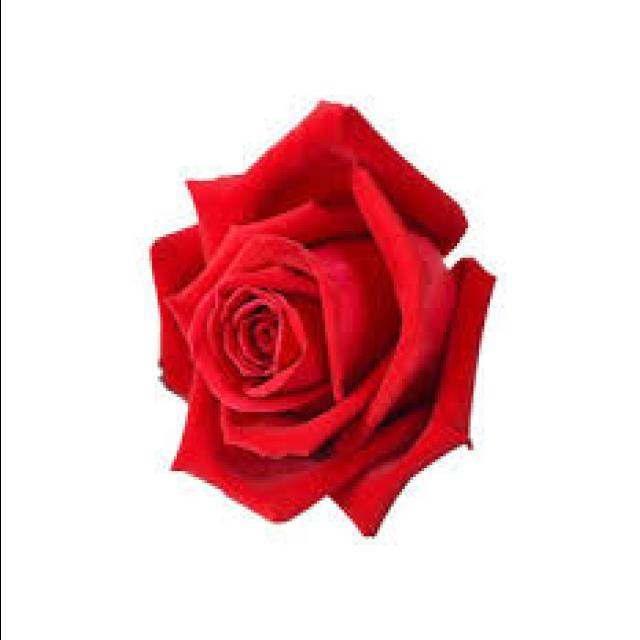rose: (124, 85, 498, 571)
